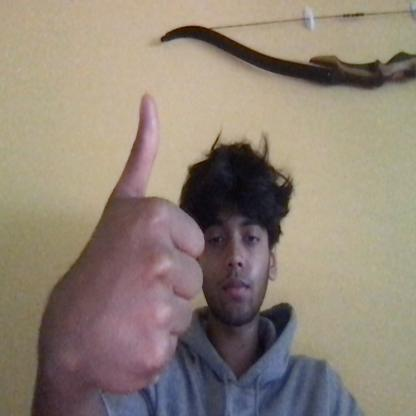Thumbs-Up: (50, 75, 206, 400)
